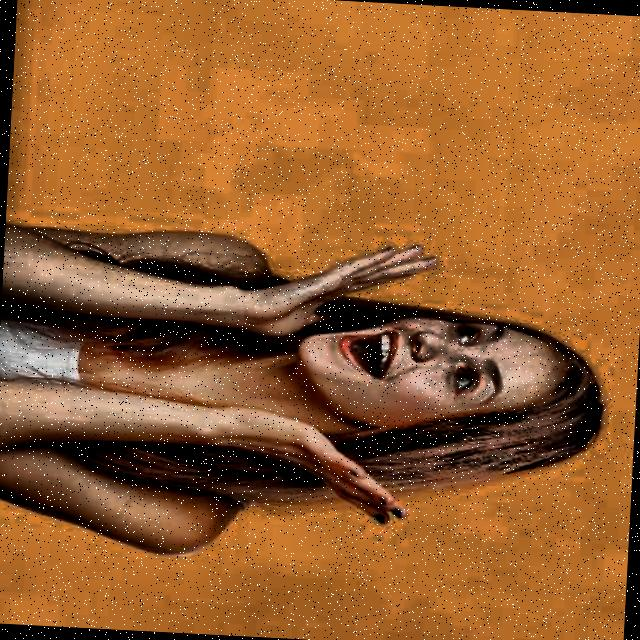surprised: (262, 262, 611, 505)
